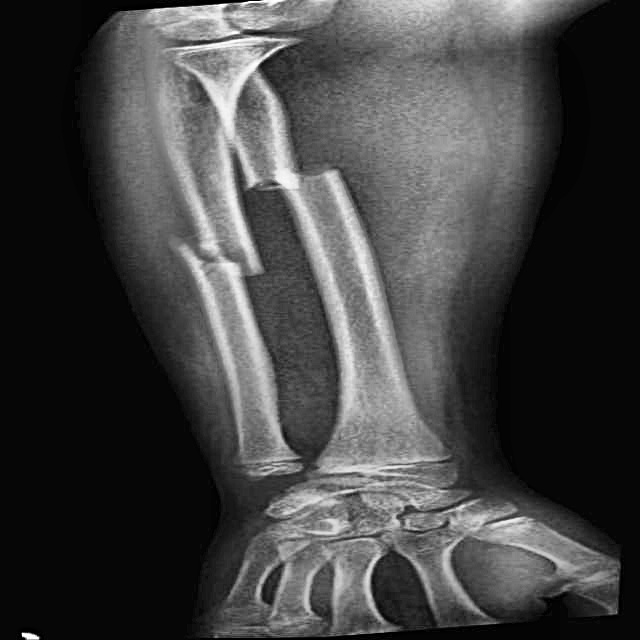Oblique Displaced: (130, 217, 304, 304)
Transverse: (214, 147, 387, 211)
